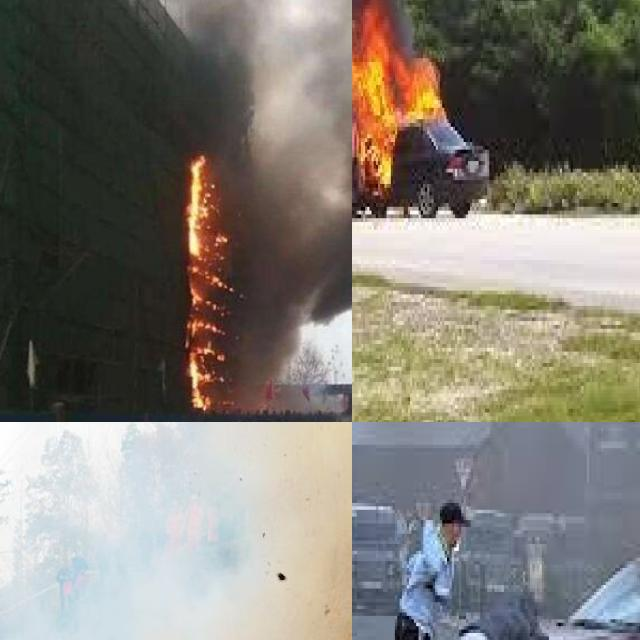fire: (352, 0, 448, 187), (188, 148, 234, 411)
smoke: (158, 0, 352, 402), (0, 422, 352, 640)
